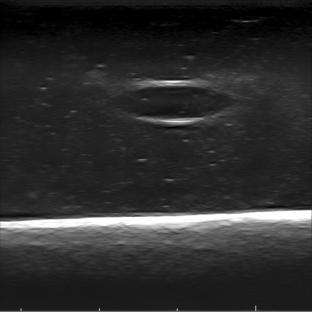vessel: (120, 79, 235, 125)
